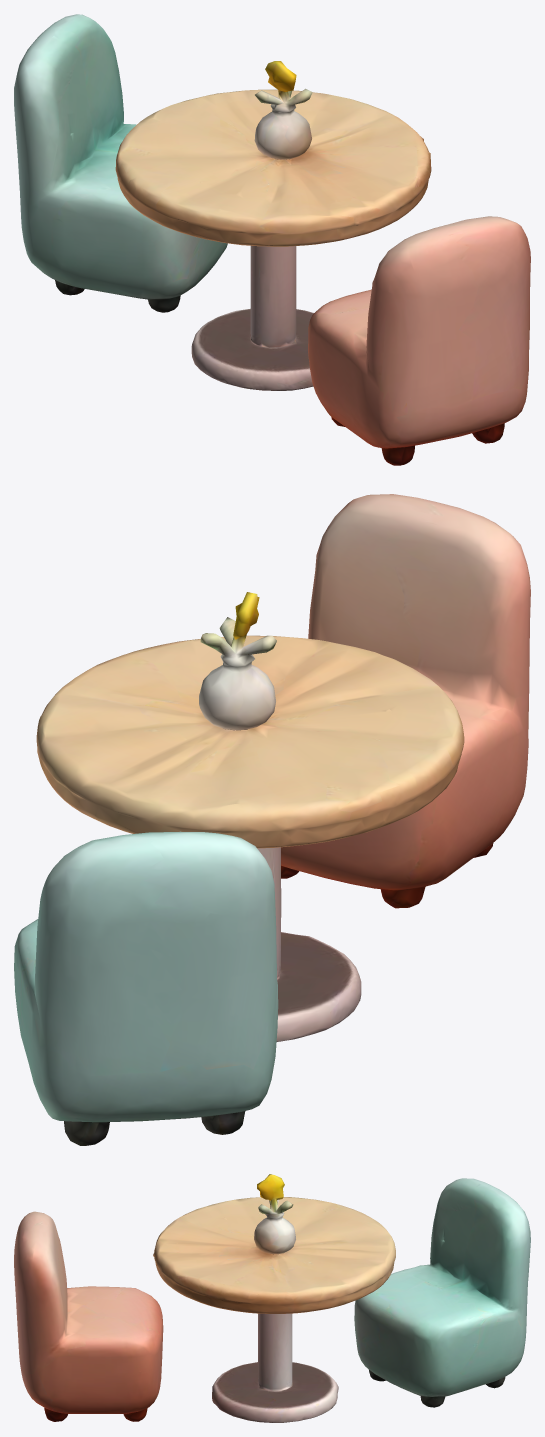
The model's file is table.glb.
The picture shows the model from 3 angles, top to bottom: view 1: azimuth 30°, elevation 25°; view 2: azimuth 150°, elevation 25°; view 3: azimuth 270°, elevation 25°; orthographic projection. The views are drawn at different scales.
Visible parts, largest first — view 1: tripo_node_221fb475-480d-4633-bb9b-e2590b019471; view 2: tripo_node_221fb475-480d-4633-bb9b-e2590b019471; view 3: tripo_node_221fb475-480d-4633-bb9b-e2590b019471.
Part boxes in pixels (left/top/right/bottom): tripo_node_221fb475-480d-4633-bb9b-e2590b019471: left=14, top=14, right=530, bottom=465; tripo_node_221fb475-480d-4633-bb9b-e2590b019471: left=14, top=494, right=530, bottom=1145; tripo_node_221fb475-480d-4633-bb9b-e2590b019471: left=14, top=1174, right=530, bottom=1422.
Bounding box in the file's own units: 0.4604 × 0.4777 × 1.
Materials: 1 (1 with a texture image).
